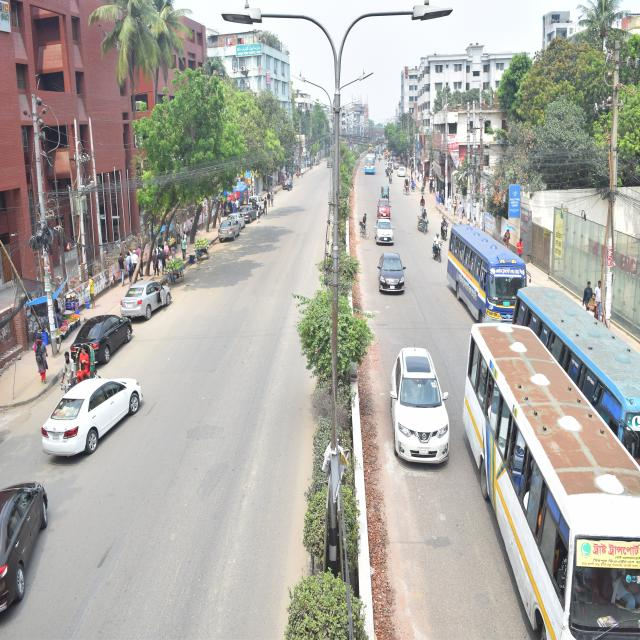bus: (461, 312, 640, 640), (513, 286, 640, 450), (446, 223, 527, 321), (363, 155, 381, 181)
car: (39, 375, 159, 469), (381, 338, 457, 467), (0, 478, 60, 640), (66, 310, 142, 368), (116, 270, 182, 322), (374, 250, 409, 296), (213, 214, 246, 246), (374, 214, 396, 248), (374, 198, 401, 220), (279, 175, 295, 193), (398, 166, 409, 180)
motorbike: (428, 230, 446, 267), (439, 213, 450, 240)
